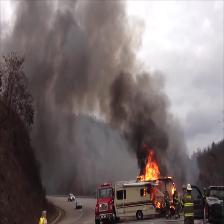fire: (141, 157, 162, 183)
smoke: (22, 1, 141, 115), (116, 115, 184, 155)
